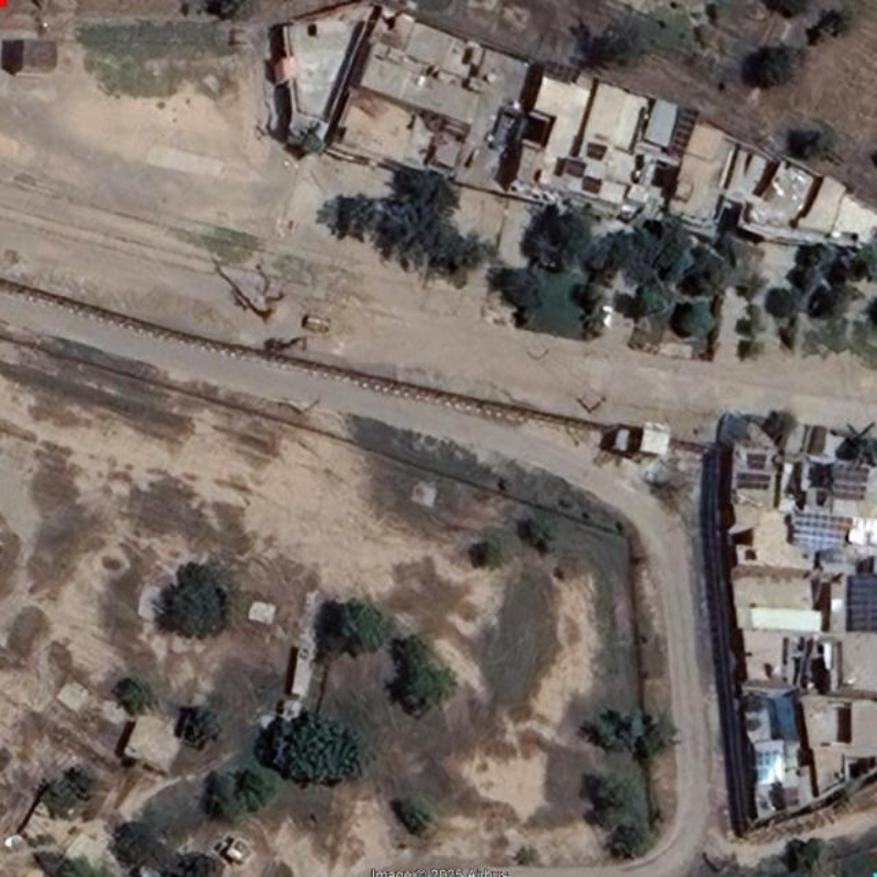Solarpanel: (796, 516, 855, 547), (848, 575, 876, 630), (830, 464, 867, 500), (736, 473, 768, 492)
